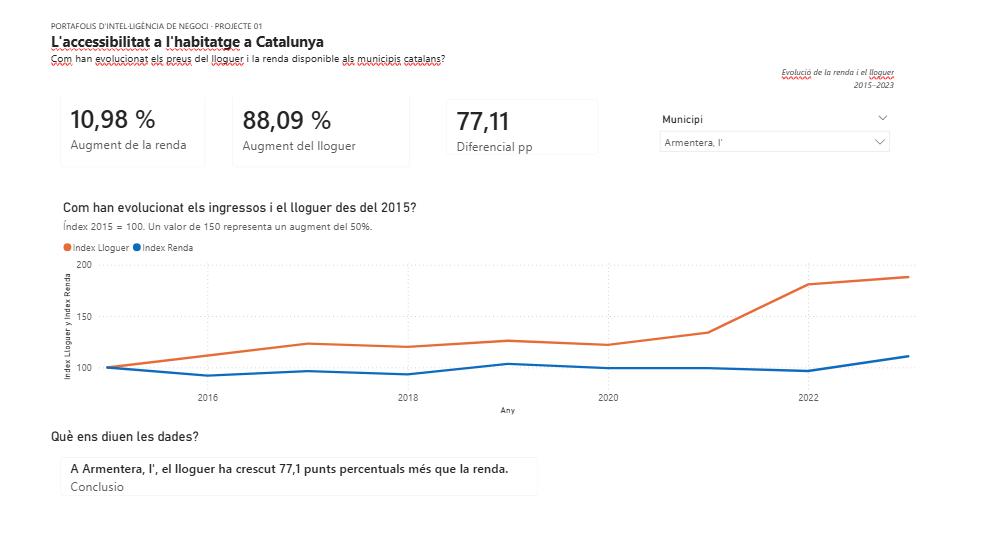

This screenshot's page, from the dashboard's own definition file:
{"tool":"powerbi","page":{"name":"Evolució i accessibilitat","canvas":[1280,720],"ordinal":0},"visuals":[{"type":"lineChart","title":"Com han evolucionat els ingressos i el lloguer des del 2015?","fields":{"Category":["Dim_Anys.Any"],"Y":["Dim_Anys.Index Lloguer","Dim_Anys.Index Renda"]},"box":[87.5,264.6,1106.9,280.1],"z":0},{"type":"cardVisual","fields":{"Data":["Dim_Anys.Creixement Renda %"]},"box":[72,97.3,220.8,142],"z":1000},{"type":"cardVisual","fields":{"Data":["Dim_Anys.Creixement Lloguer %"]},"box":[292.8,101.2,262.6,138.1],"z":2000},{"type":"cardVisual","fields":{"Data":["Dim_Anys.Diferencial pp"]},"box":[567.1,117.7,229.5,105],"z":3000},{"type":"slicer","fields":{"Values":["Dim_Municipis.Municipi"]},"box":[847.2,147.8,315.1,67.1],"z":4000},{"type":"cardVisual","title":"Què ens diuen les dades?","fields":{"Data":["Dim_Anys.Conclusio"]},"box":[72,557.3,647.8,103.1],"z":5000},{"type":"textbox","box":[72,25.3,1090.3,100.2],"z":6000}]}

Visuals, with their boxes in screenshot pixels (x1, y1, x2, y2), scaled from the page's 1280x720 canvas onto the 983x550 screenshot:
"Com han evolucionat els ingressos i el lloguer des del 2015?" lineChart: <box>67,202,917,416</box>
cardVisual - Dim_Anys.Creixement Renda %: <box>55,74,225,183</box>
cardVisual - Dim_Anys.Creixement Lloguer %: <box>225,77,427,183</box>
cardVisual - Dim_Anys.Diferencial pp: <box>436,90,612,170</box>
slicer - Dim_Municipis.Municipi: <box>651,113,893,164</box>
"Què ens diuen les dades?" cardVisual: <box>55,426,553,504</box>
textbox: <box>55,19,893,96</box>
